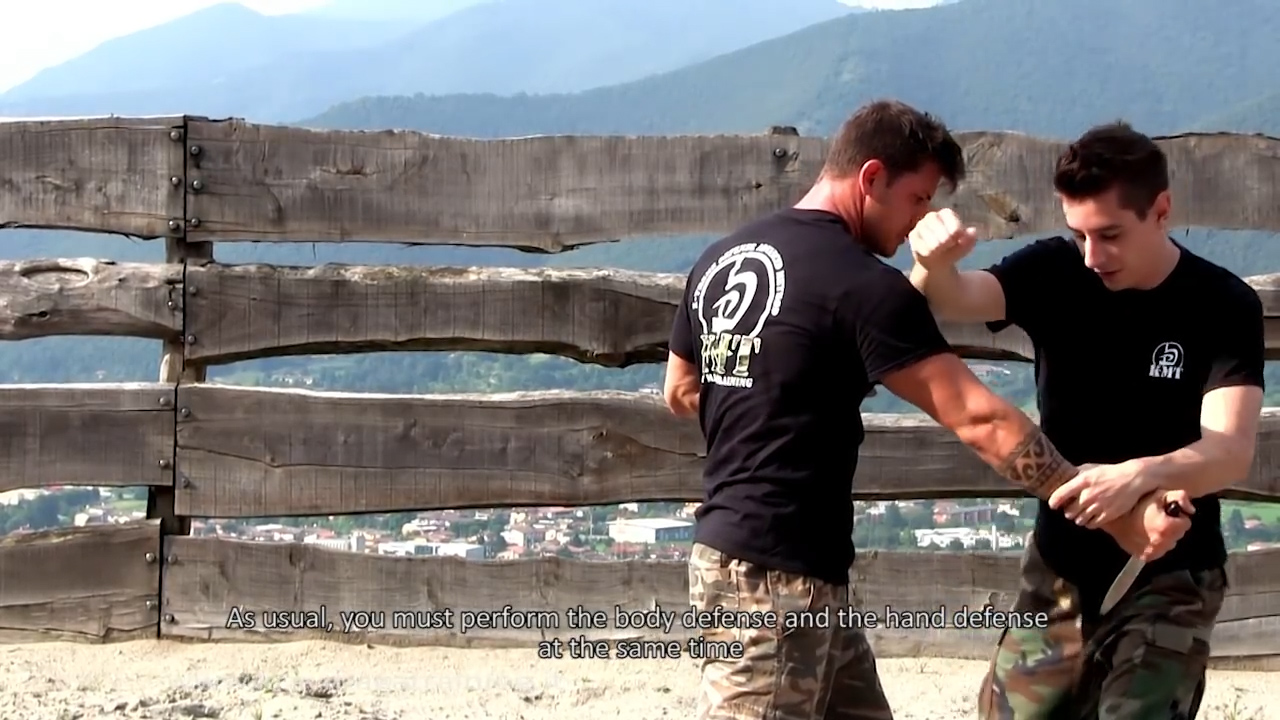knife: (1094, 485, 1198, 622)
